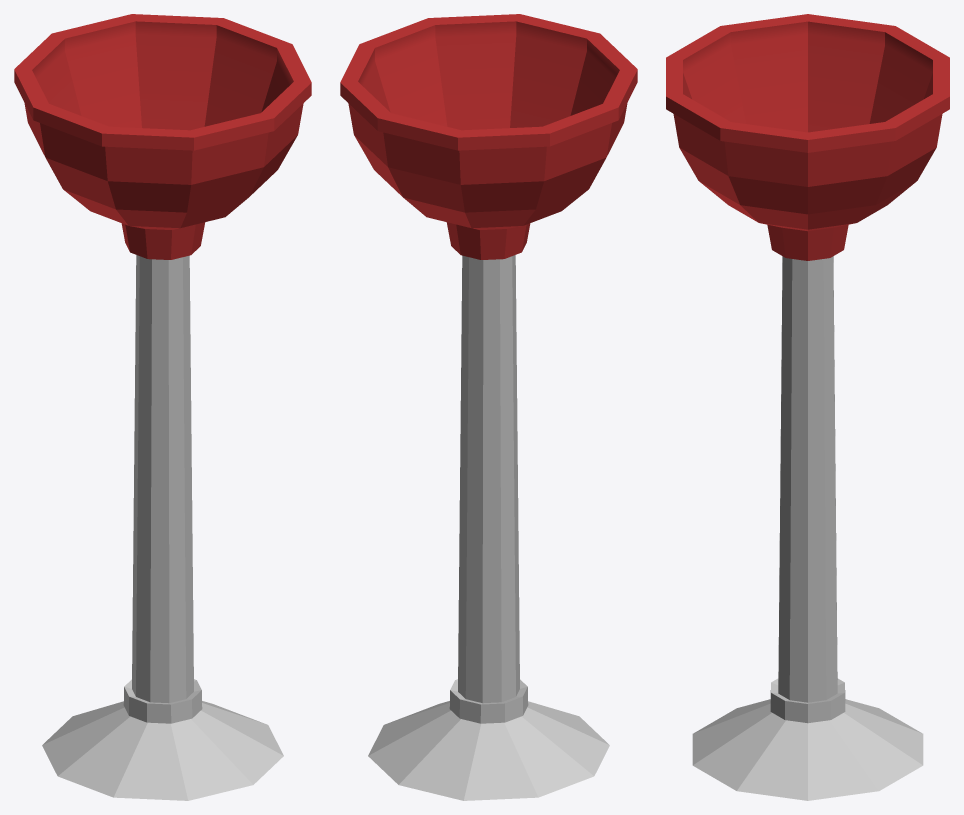
Rendered from building_plungersniper.fbx.
The picture shows the model from 3 angles, left to right: view 1: azimuth 30°, elevation 25°; view 2: azimuth 150°, elevation 25°; view 3: azimuth 270°, elevation 25°; orthographic projection.
Visible parts, largest first — view 1: Plunger_Sniper; view 2: Plunger_Sniper; view 3: Plunger_Sniper.
Part boxes in pixels (box(x1,y1,x2,y2)): Plunger_Sniper: box(14, 14, 311, 800); Plunger_Sniper: box(340, 14, 637, 800); Plunger_Sniper: box(666, 14, 949, 800).
Size of the model in its own units: 2.1 by 5.22 by 1.99.
Materials: 1 (1 with a texture image).
